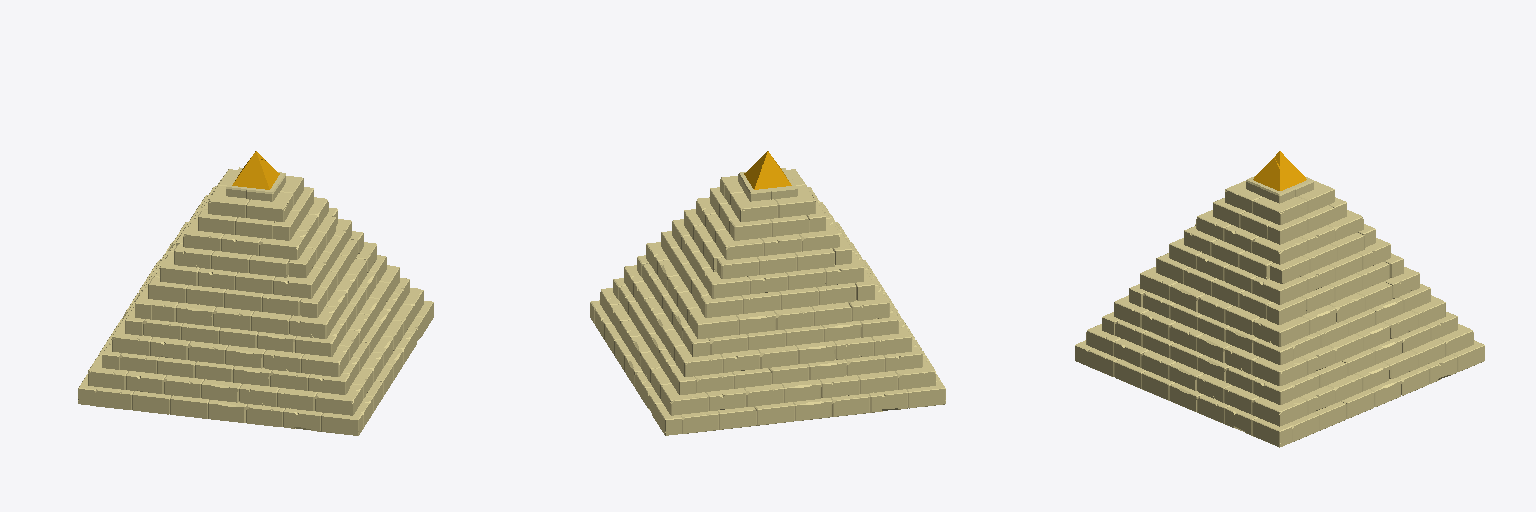
3 renders of one model, left to right at view 1: azimuth 30°, elevation 25°; view 2: azimuth 150°, elevation 25°; view 3: azimuth 270°, elevation 25°, orthographic.
Visible parts, largest first — view 1: Cube.026, Cone_dmg; view 2: Cube.026, Cone_dmg; view 3: Cube.026, Cone_dmg.
Boxes of the visible parts, x1,y1,x2,y2 form: Cube.026: [78, 167, 433, 435]; Cone_dmg: [232, 151, 279, 189]; Cube.026: [590, 168, 945, 435]; Cone_dmg: [744, 151, 791, 189]; Cube.026: [1075, 176, 1484, 447]; Cone_dmg: [1253, 151, 1306, 190].
Bounding box in the file's own units: 83.81 × 47.39 × 83.81.